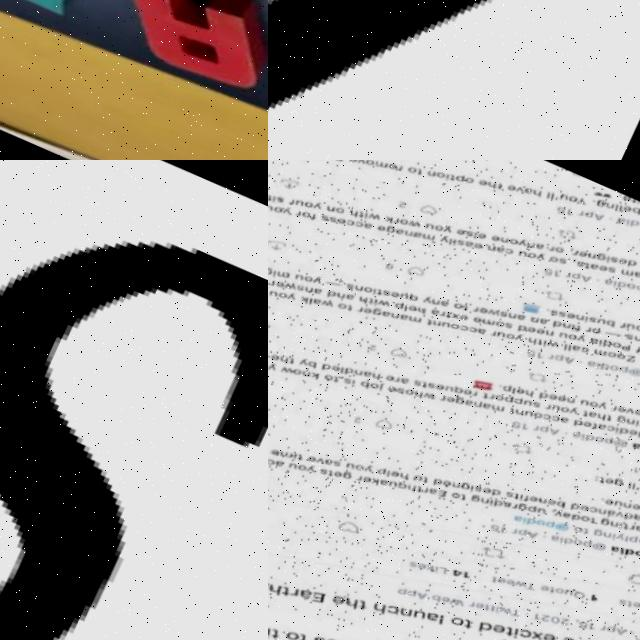0: (551, 617, 563, 628)
1: (590, 595, 602, 607), (463, 572, 474, 582), (501, 527, 510, 537), (535, 615, 544, 624), (553, 271, 562, 280), (589, 624, 597, 633), (522, 425, 530, 434), (537, 354, 545, 363), (566, 210, 574, 219), (634, 469, 640, 477)
2: (541, 614, 553, 626), (561, 619, 572, 630), (353, 416, 364, 427), (368, 344, 379, 355), (397, 202, 408, 213)
3: (385, 264, 395, 274)
4: (451, 569, 465, 582)
5: (577, 620, 591, 634), (490, 524, 503, 537), (525, 350, 539, 362), (511, 421, 524, 433), (554, 207, 567, 219), (543, 269, 555, 280)
A: (101, 0, 268, 106)
S: (0, 160, 268, 640)
Z: (268, 0, 640, 160)
